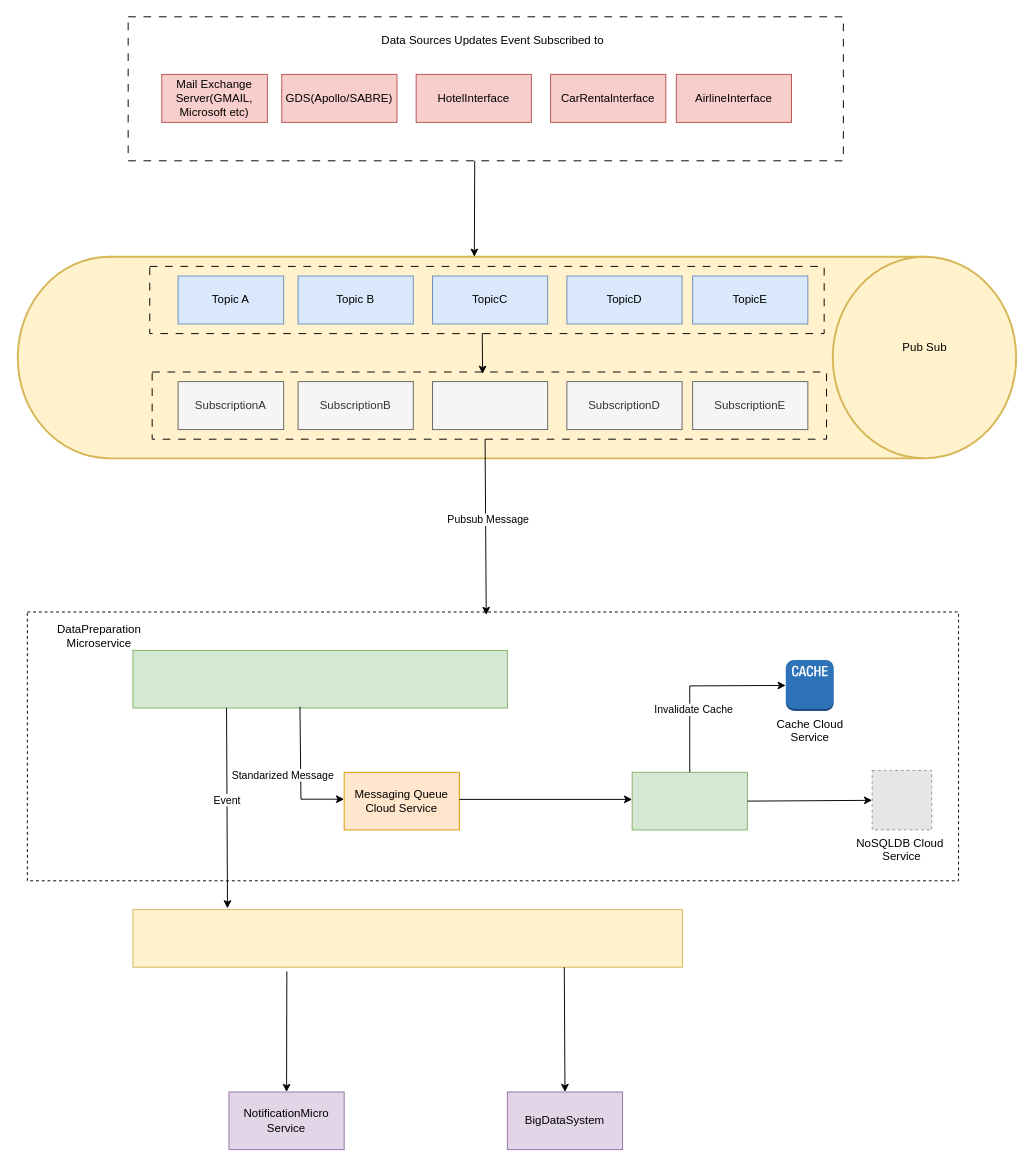
Some shapes in this 1033 by 1166 pixel diagram are drawn without their labels. Grey dashed boxes stand in for pictures. Here are the shapes that lost their labels. From the top down, the box of each, then its label:
(432, 381, 548, 430): SubscriptionC
(132, 649, 507, 708): MessageSubscriber
(631, 771, 747, 830): TripAggregator
(132, 909, 683, 967): Event Streaming Cloud Service
